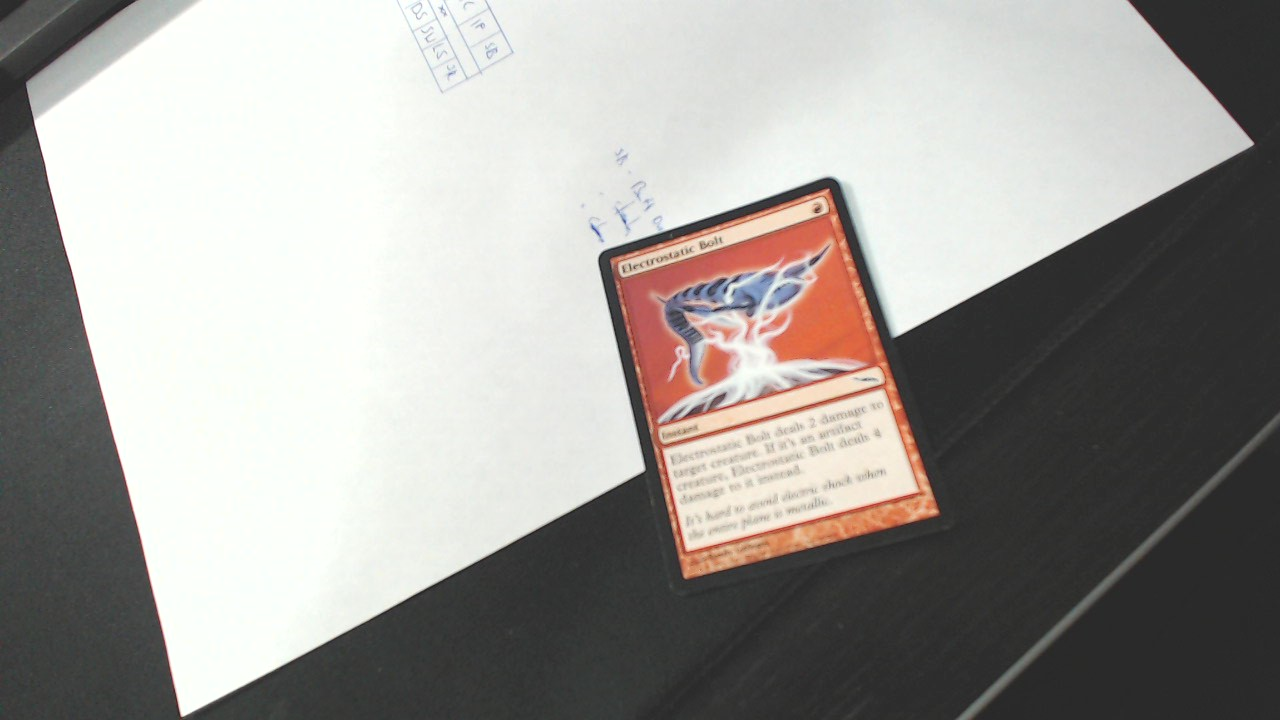MTG Card: (589, 172, 973, 598)
